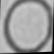no answer: (1, 0, 54, 54)
